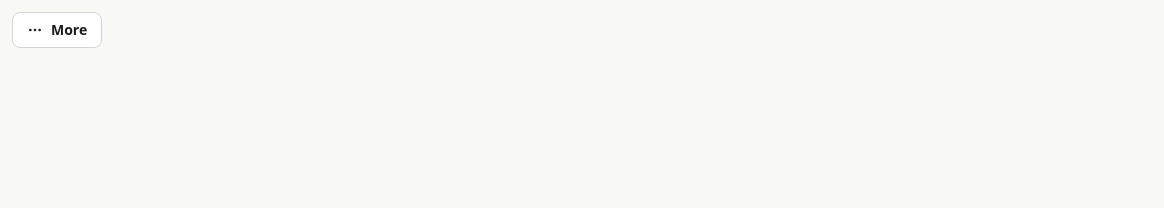
Test: MoreMenu › runs the chosen action, closes and returns focus to the button
Click the button with aria-label "More actions".
click(57, 30)  # box 12,12 -> 102,48
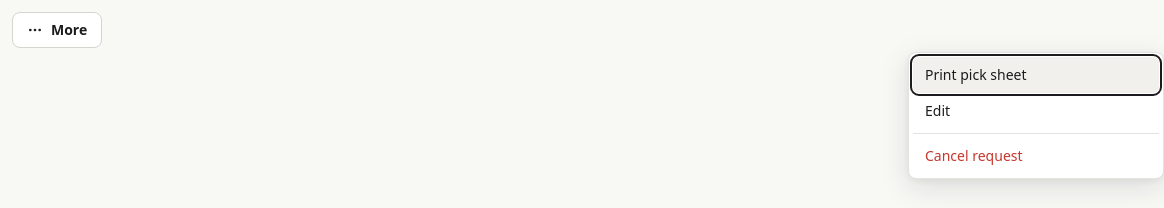
Click the menu item "Edit".
click(1036, 111)  # box 913,93 -> 1159,129
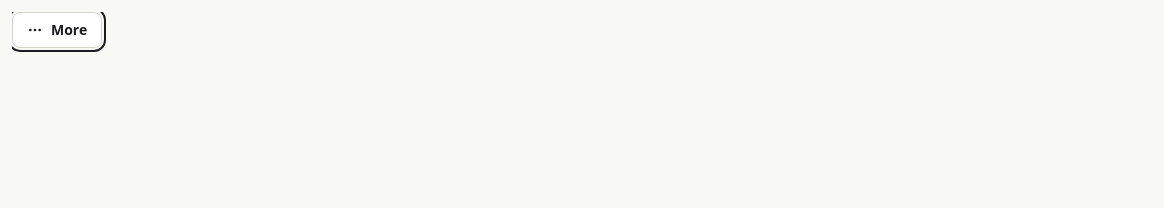
Check: the menu is gone
